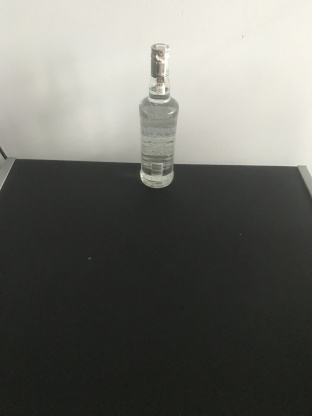nakretka: (149, 41, 171, 78)
